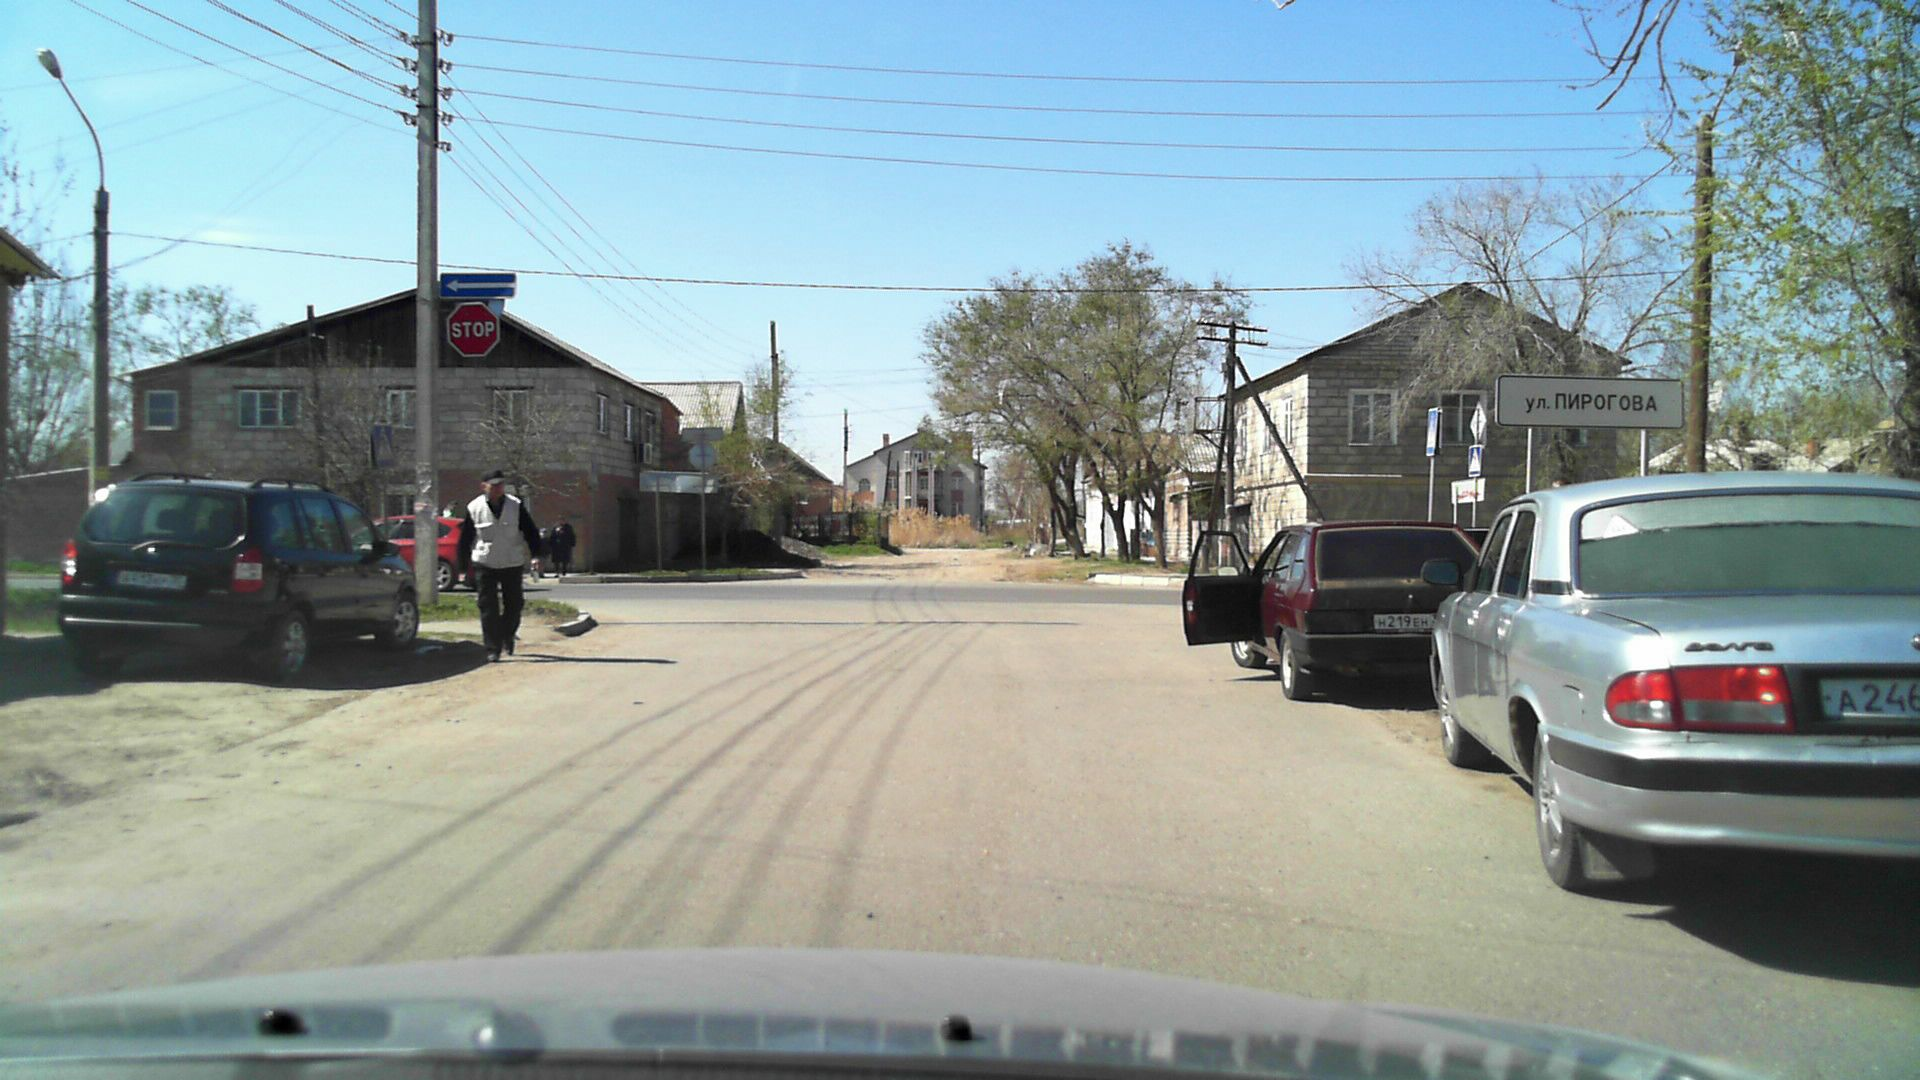One-Way Traffic: (440, 272, 517, 299)
